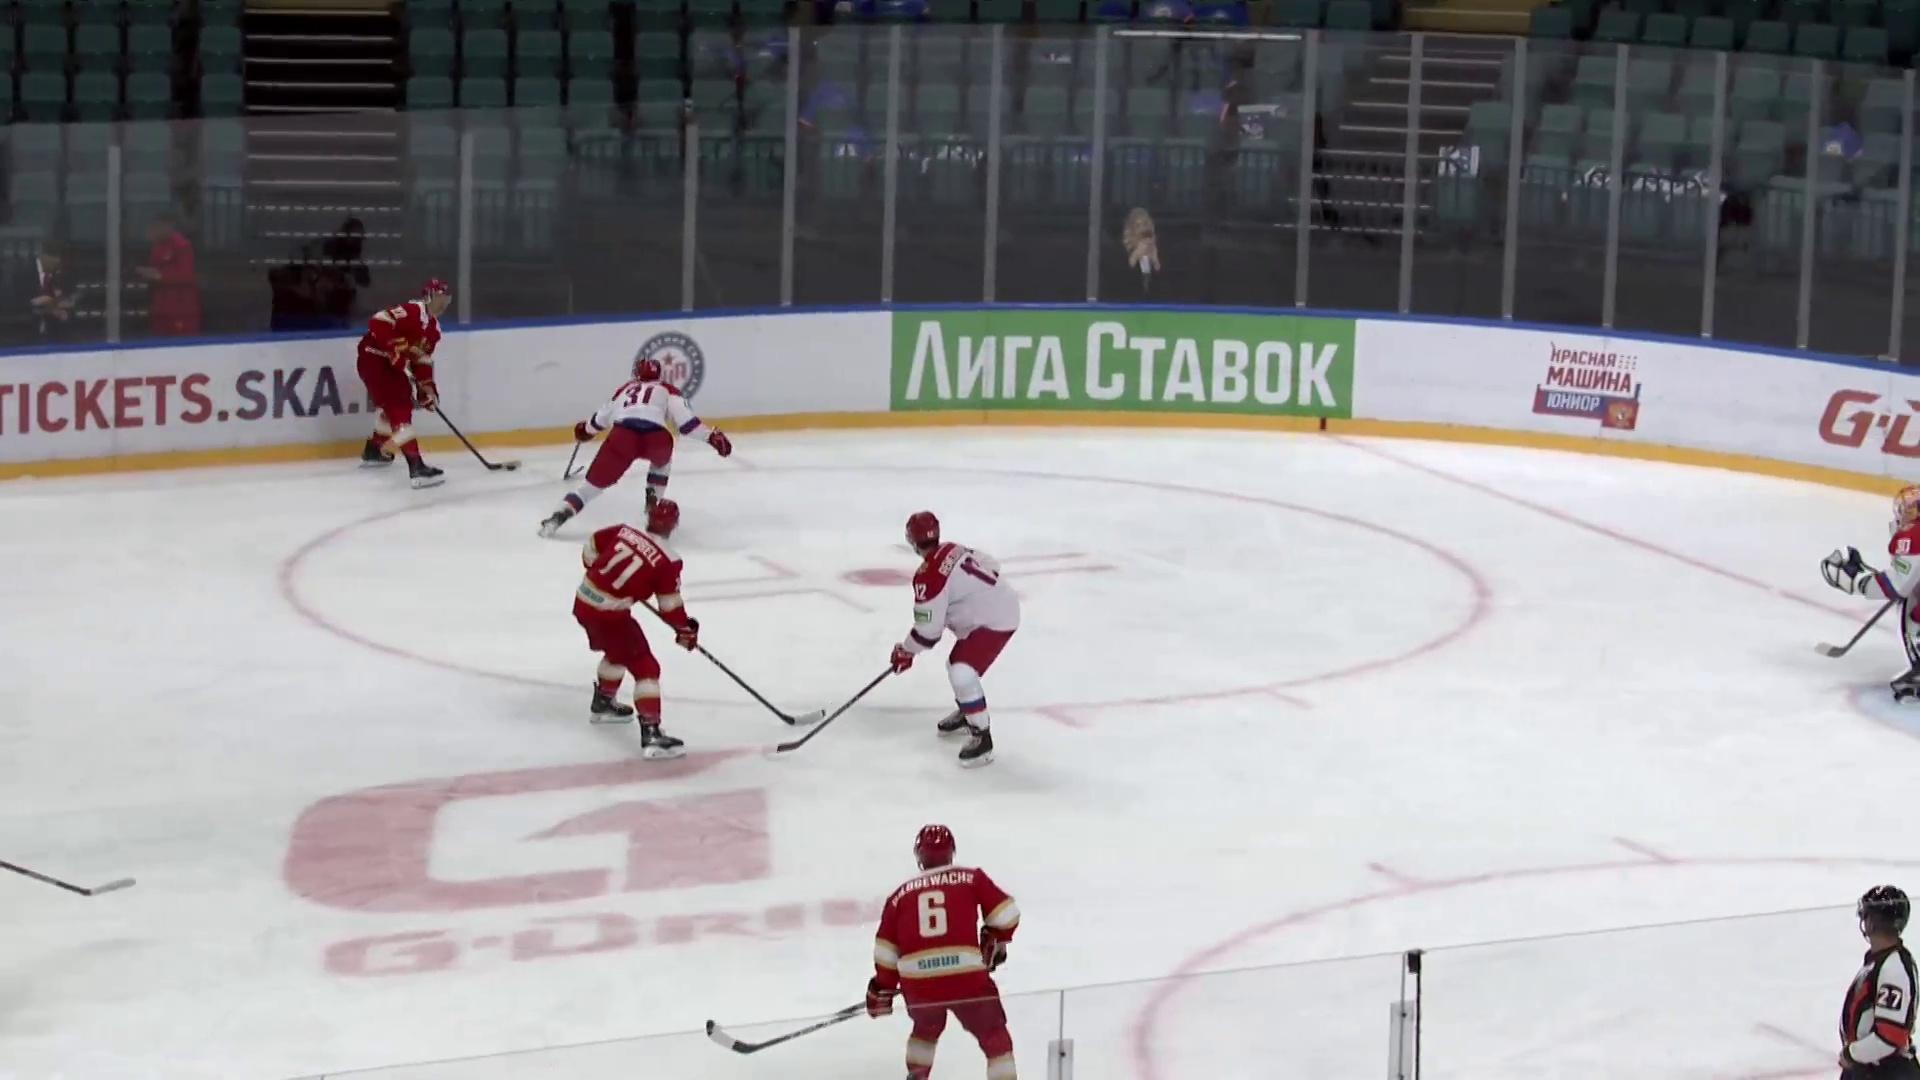ball: (505, 462, 520, 475)
